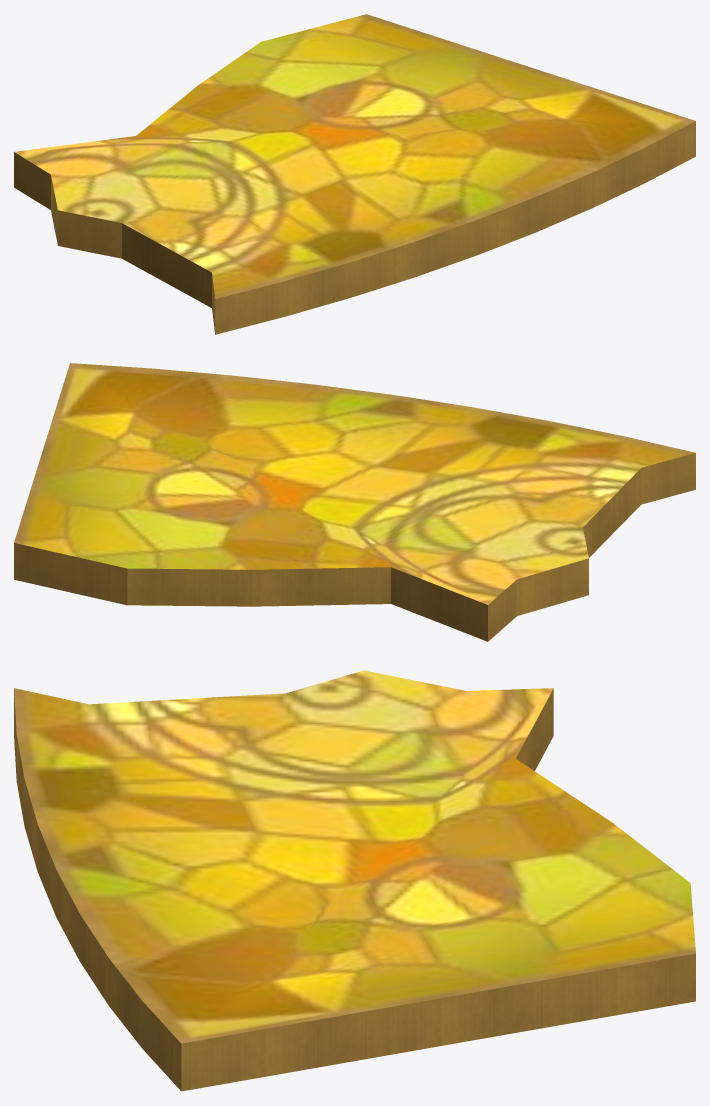
File: lb_chunk_2_4.glb
3 renders of one model, top to bottom at view 1: azimuth 30°, elevation 25°; view 2: azimuth 150°, elevation 25°; view 3: azimuth 270°, elevation 25°, orthographic. The views are drawn at different scales.
Visible parts, largest first — view 1: lb_chunk_2_4; view 2: lb_chunk_2_4; view 3: lb_chunk_2_4.
Boxes of the visible parts, bbox=[...] form: lb_chunk_2_4: bbox=[14, 14, 695, 334]; lb_chunk_2_4: bbox=[14, 363, 695, 641]; lb_chunk_2_4: bbox=[14, 670, 695, 1091].
Bounding box in the file's own units: 6.02 × 0.36 × 4.65.
Materials: 2 (2 with a texture image).
